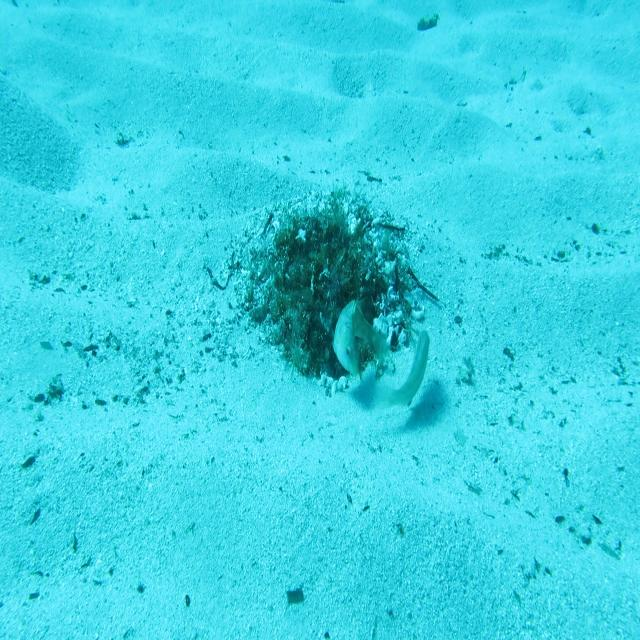DAN_CIRC: (332, 296, 392, 382)
core_nest: (306, 226, 352, 269)
female: (370, 326, 431, 411)
nest: (226, 181, 436, 408)
vegetation: (415, 9, 441, 31), (286, 586, 304, 602)
